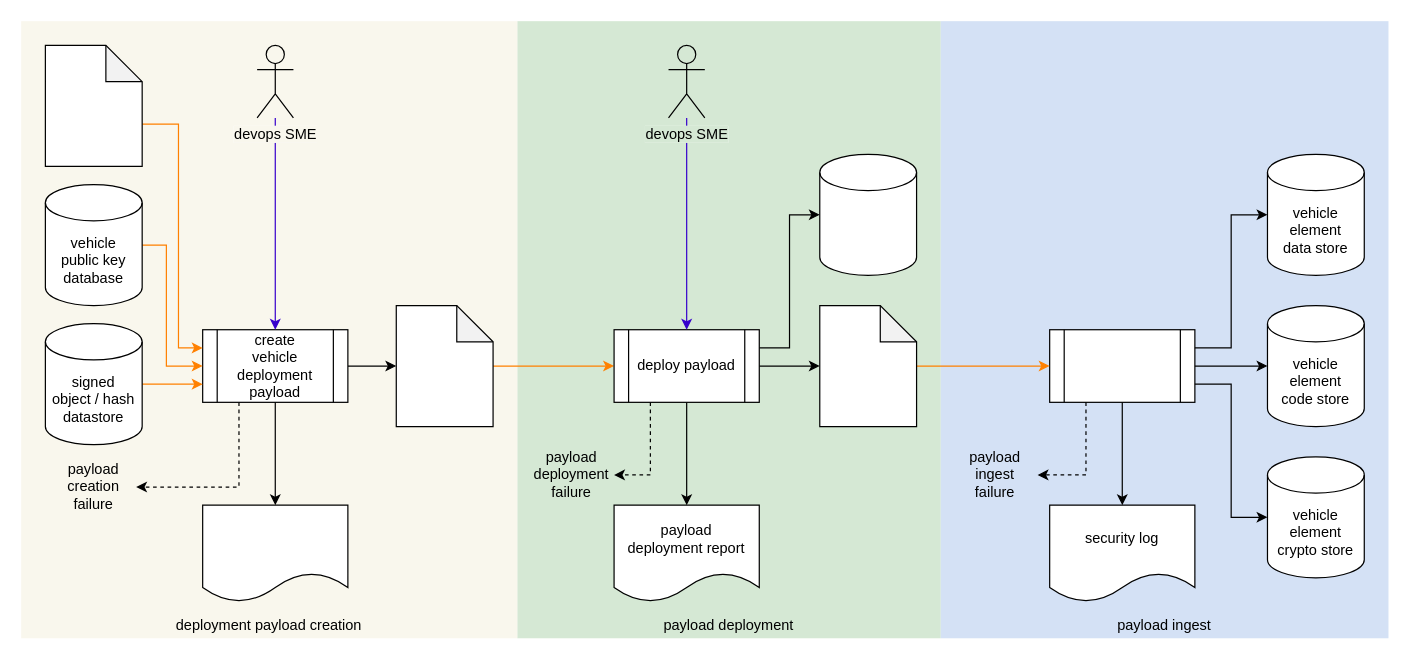
This 1408x658 diagram has some shape labels left out. Here are the shapes that lost their labels. From the top down, the centre of each, then its label:
the point at 93,105: vehicle deployment manifest
the point at 868,214: vehicle payload database
the point at 444,365: vehicle deployment payload
the point at 868,365: timestamped vehicle deployment payload
the point at 1121,365: ingest payload
the point at 274,553: vehicle deployment payload creation report
